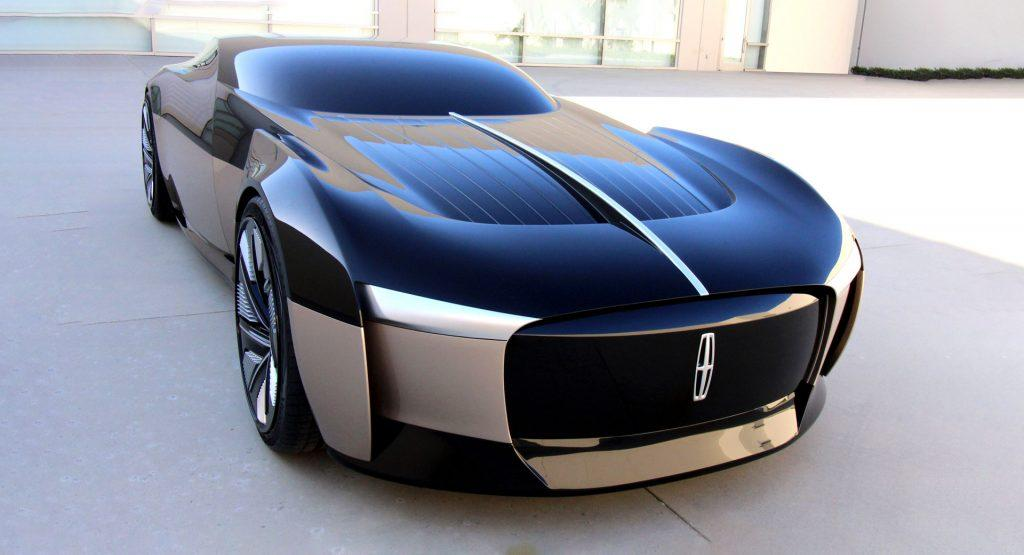lincoln: (685, 318, 723, 410)
